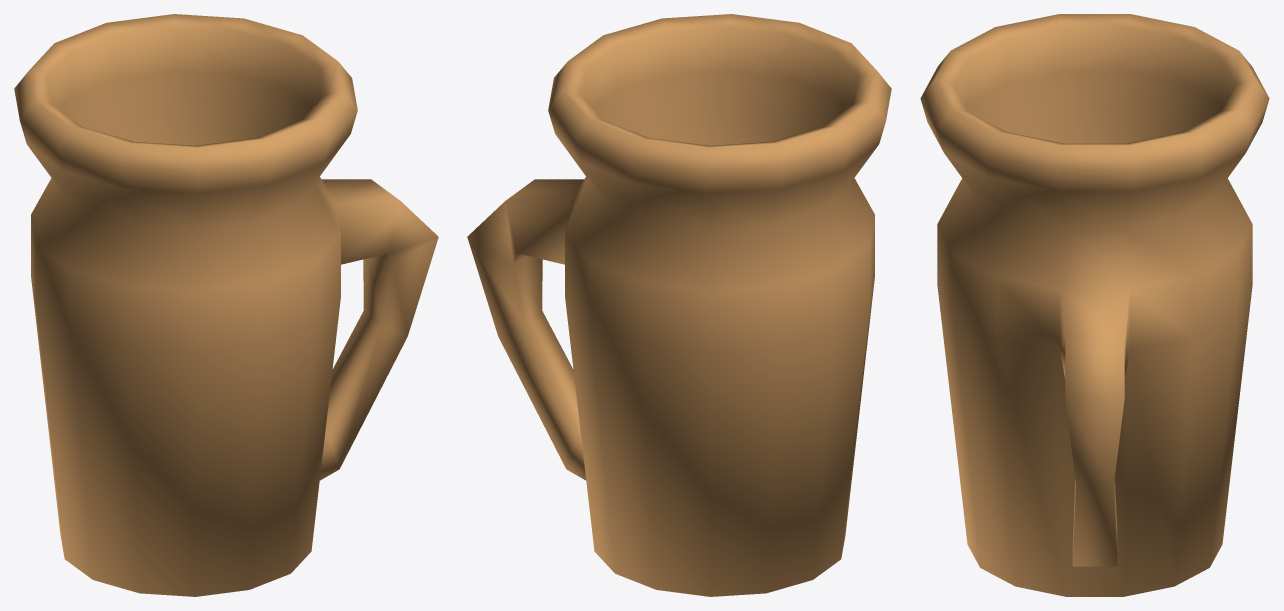
The model's file is ruukku123.fbx.
3 renders of one model, left to right at view 1: azimuth 30°, elevation 25°; view 2: azimuth 150°, elevation 25°; view 3: azimuth 270°, elevation 25°, orthographic.
Parts seen in each view (by area): view 1: Circle; view 2: Circle; view 3: Circle.
Boxes of the visible parts, x1,y1,x2,y2 form: Circle: [14, 14, 438, 596]; Circle: [467, 14, 891, 596]; Circle: [920, 14, 1269, 596].
Bounding box in the file's own units: 252 × 289 × 197.
